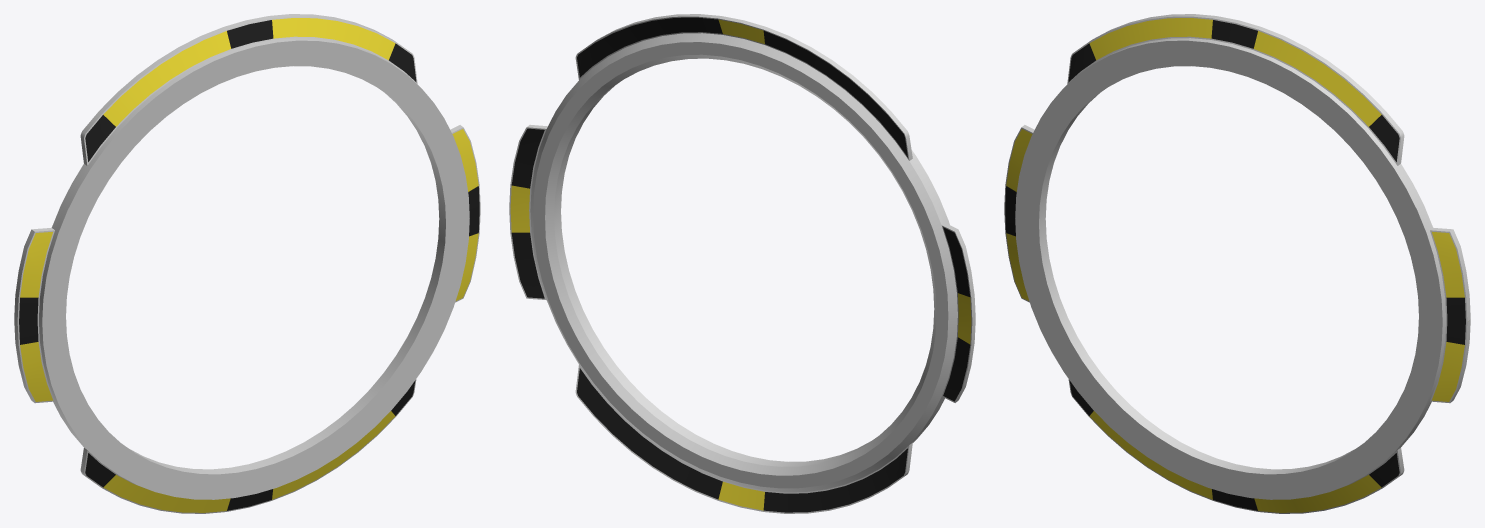
File: booster.FBX
The picture shows the model from 3 angles, left to right: view 1: azimuth 30°, elevation 25°; view 2: azimuth 150°, elevation 25°; view 3: azimuth 330°, elevation 25°; orthographic projection.
Visible parts, largest first — view 1: Booster; view 2: Booster; view 3: Booster.
Boxes of the visible parts, bbox=[...] form: Booster: bbox=[14, 14, 480, 513]; Booster: bbox=[509, 14, 975, 513]; Booster: bbox=[1004, 14, 1470, 513].
Bounding box in the file's own units: 19498 × 19500 × 750.
